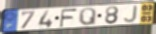4: (38, 9, 55, 29)
7: (20, 10, 36, 30)
8: (104, 5, 120, 25)
F: (59, 8, 79, 28)
J: (123, 5, 139, 24)
Q: (78, 7, 98, 26)
